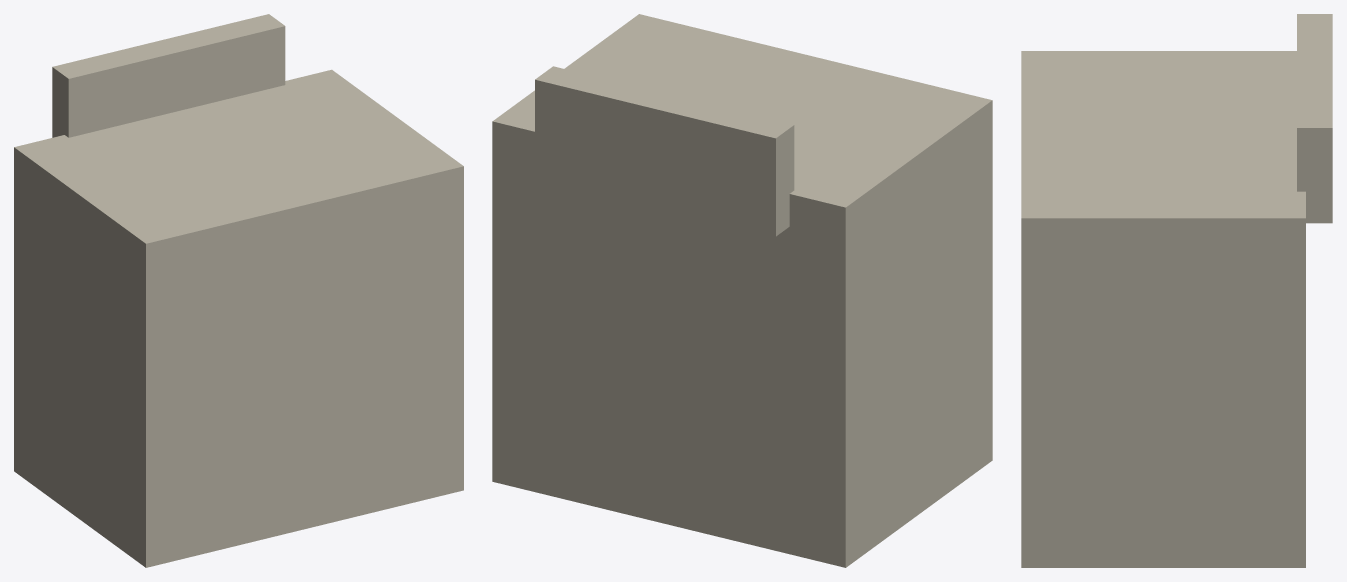
Rendered from iz2_item_ration_box.glb.
3 views of the same model, side by side, from view 1: azimuth 30°, elevation 25°; view 2: azimuth 150°, elevation 25°; view 3: azimuth 270°, elevation 25° (orthographic). The views are drawn at different scales.
Parts seen in each view (by area): view 1: body; view 2: body; view 3: body.
Boxes of the visible parts, bbox=[...] form: body: bbox=[14, 14, 463, 567]; body: bbox=[492, 14, 992, 567]; body: bbox=[1021, 14, 1332, 567].
Bounding box in the file's own units: 0.2275 × 0.2619 × 0.1789.
